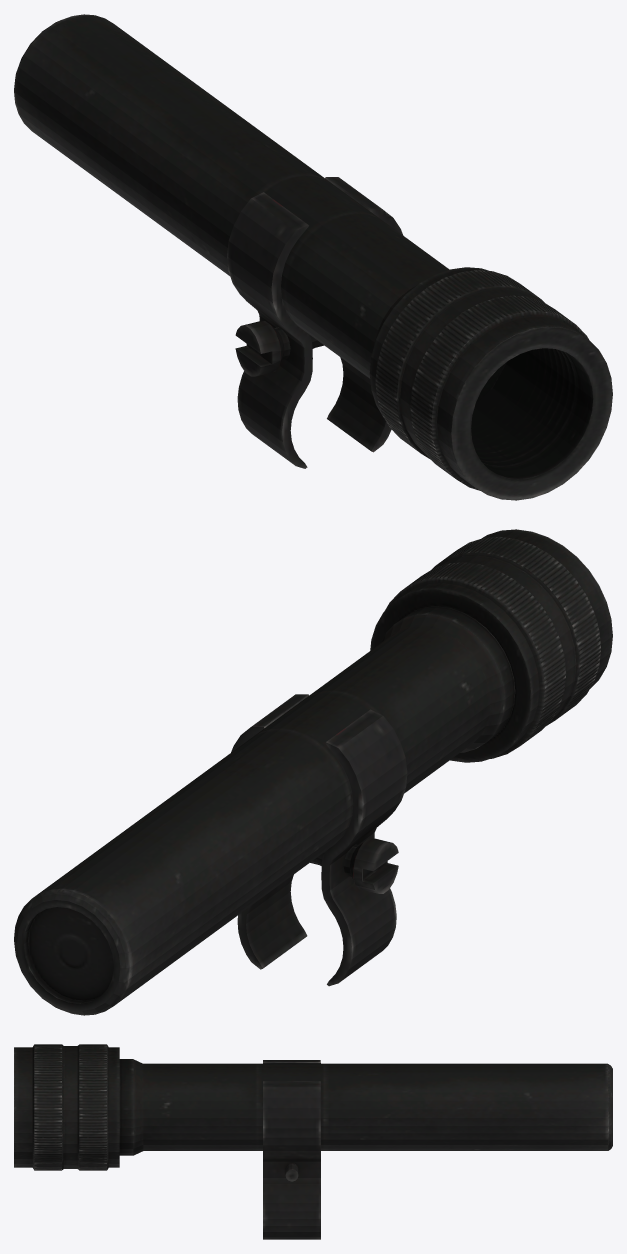
3 views of the same model, one above another, from view 1: azimuth 30°, elevation 25°; view 2: azimuth 150°, elevation 25°; view 3: azimuth 270°, elevation 25° (orthographic). The views are drawn at different scales.
Parts seen in each view (by area): view 1: TW_6259bdcabd28e4721447a2aa_PZ_Import; view 2: TW_6259bdcabd28e4721447a2aa_PZ_Import; view 3: TW_6259bdcabd28e4721447a2aa_PZ_Import.
Boxes of the visible parts, bbox=[...] form: TW_6259bdcabd28e4721447a2aa_PZ_Import: bbox=[14, 14, 612, 500]; TW_6259bdcabd28e4721447a2aa_PZ_Import: bbox=[14, 529, 612, 1015]; TW_6259bdcabd28e4721447a2aa_PZ_Import: bbox=[14, 1044, 612, 1239].
Size of the model in its own units: 0.0211 by 0.1001 by 0.033.
1 material, 1 textured.
